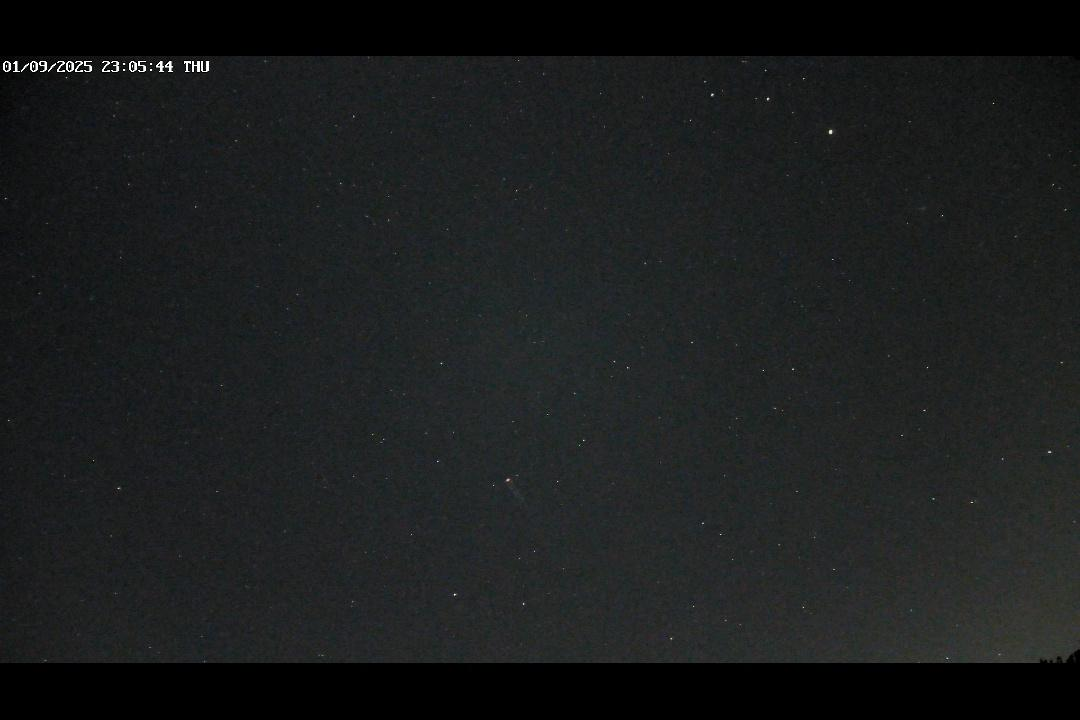Plane: (504, 473, 528, 505)
